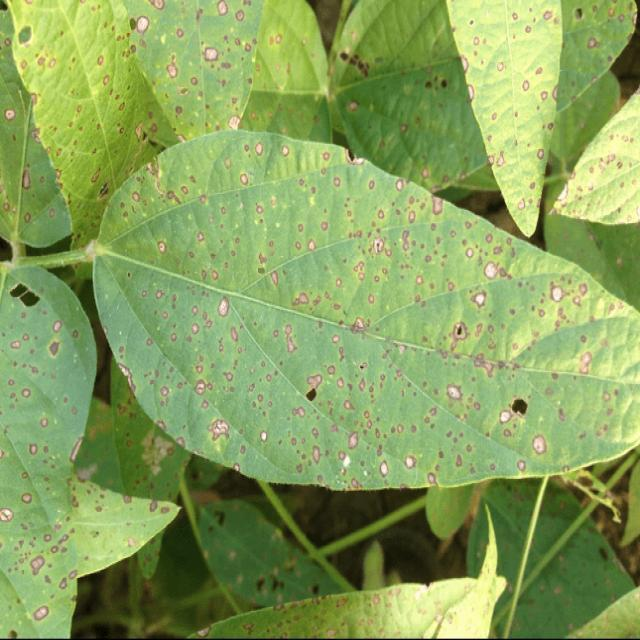Septoria: (118, 157, 609, 480), (0, 0, 132, 249), (0, 269, 83, 634), (447, 0, 546, 227), (134, 0, 260, 128), (559, 102, 640, 218)
